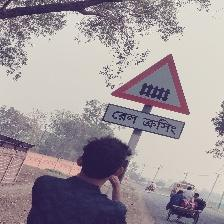Rail-crossing: (103, 54, 191, 142)
